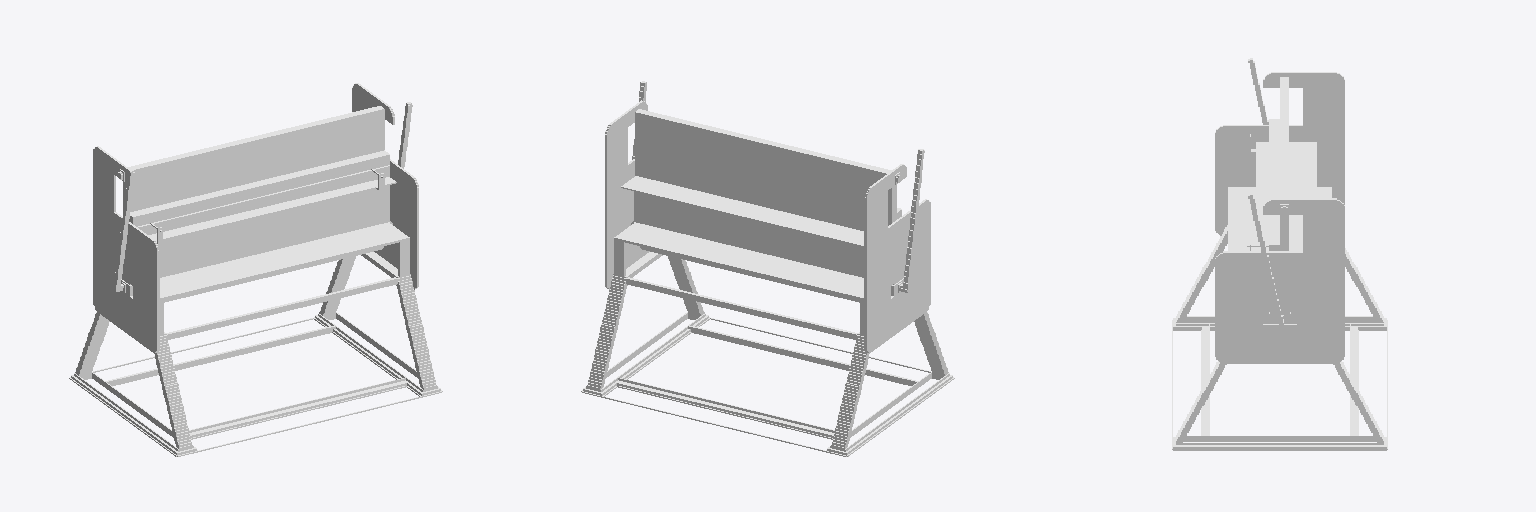
File: Maquina1.obj
The picture shows the model from 3 angles: view 1: azimuth 30°, elevation 25°; view 2: azimuth 150°, elevation 25°; view 3: azimuth 270°, elevation 25°; orthographic projection.
Visible parts, largest first — view 1: object 1; view 2: object 1; view 3: object 1.
Boxes of the visible parts, <box> form: object 1: <box>69,83,442,456</box>; object 1: <box>581,81,954,456</box>; object 1: <box>1172,58,1387,450</box>.
Bounding box in the file's own units: 25.6 × 22.5 × 17.